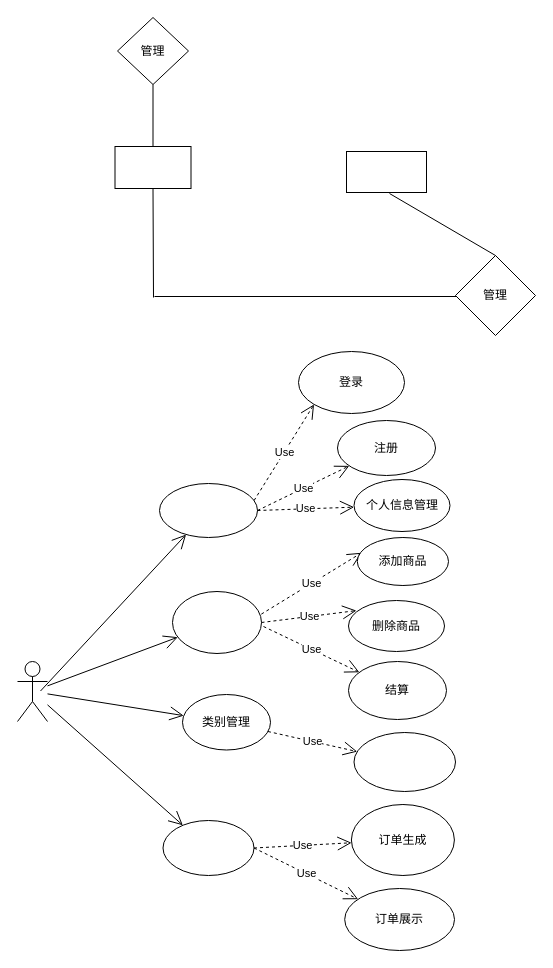
The diagram is 553 pixels wide and 968 high, and some of its shapes have lost their labels. The shapes that lost their labels are listed below. From the top down, each one's centre as x and y in pixels, then its label:
At (152,167): "管理员".
At (208,510): "用户管理".
At (217,622): "购物车管理".
At (32,691): "用户".
At (404,762): "类别展示".
At (208,848): "地址管理".
